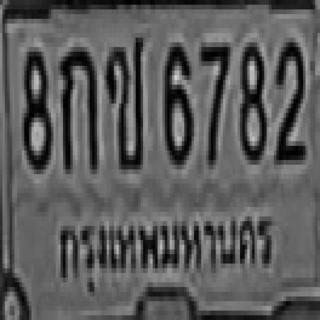A01: (59, 42, 96, 170)
A10: (104, 33, 143, 165)
N02: (274, 38, 303, 160)
N06: (162, 38, 192, 160)
N07: (199, 38, 228, 160)
N08: (21, 47, 50, 169), (238, 38, 264, 160)
P04: (53, 204, 282, 293)
